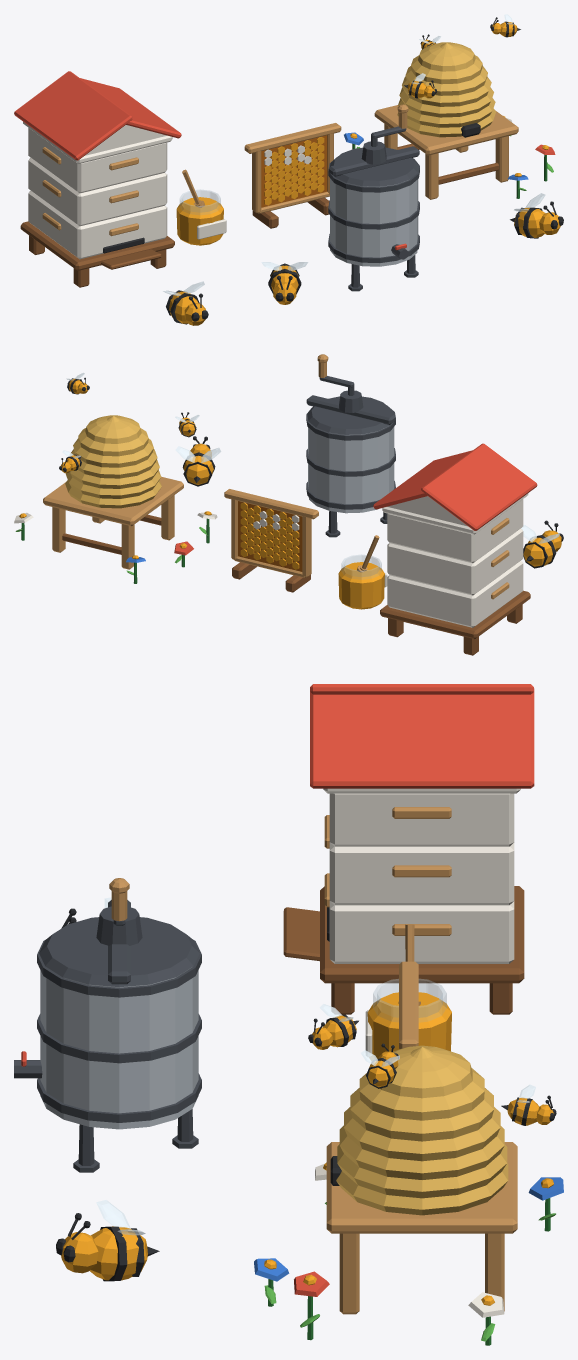
File: low-poly-beehive-set.glb
3 renders of one model, top to bottom at view 1: azimuth 30°, elevation 25°; view 2: azimuth 150°, elevation 25°; view 3: azimuth 270°, elevation 25°, orthographic. The views are drawn at different scales.
Visible parts, largest first — view 1: Skep_Dome, Extractor_Barrel, BoxHive_RoofL, BoxHive_Box2, BoxHive_Box1, BoxHive_Box3, Frame_Cells, Skep_StandTop, Extractor_Lid, BoxHive_Base, HoneyJar_Honey, BoxHive_RoofR (+19 smaller); view 2: Skep_Dome, Extractor_Barrel, BoxHive_RoofL, BoxHive_Box1, BoxHive_Box2, BoxHive_Box3, Frame_Cells, Skep_StandTop, HoneyJar_Honey, BoxHive_Base, Extractor_Lid, BoxHive_RoofR (+20 smaller); view 3: Skep_Dome, BoxHive_RoofR, Extractor_Barrel, BoxHive_Box2, BoxHive_Box1, BoxHive_Box3, Extractor_Lid, Skep_StandTop, BoxHive_Base, HoneyJar_Honey, BoxHive_RoofL, Extractor_Band2 (+12 smaller).
Part boxes in pixels (x1,y1,x2,y2): Skep_Dome: (397, 42, 495, 137); Extractor_Barrel: (330, 178, 418, 266); BoxHive_RoofL: (14, 71, 132, 160); BoxHive_Box2: (28, 157, 167, 226); BoxHive_Box1: (28, 190, 167, 259); BoxHive_Box3: (28, 128, 167, 193); Frame_Cells: (264, 137, 324, 205); Skep_StandTop: (374, 105, 518, 155); Extractor_Lid: (330, 147, 418, 186); BoxHive_Base: (20, 221, 174, 270); HoneyJar_Honey: (176, 197, 223, 245); BoxHive_RoofR: (80, 78, 181, 138); Skep_Dome: (65, 415, 161, 508); Extractor_Barrel: (308, 426, 394, 513); BoxHive_RoofL: (421, 443, 537, 530); BoxHive_Box1: (387, 560, 523, 627); BoxHive_Box2: (387, 528, 523, 595); BoxHive_Box3: (387, 499, 523, 563); Frame_Cells: (240, 502, 299, 569); Skep_StandTop: (43, 476, 183, 526); HoneyJar_Honey: (338, 562, 384, 609); BoxHive_Base: (380, 590, 530, 639); Extractor_Lid: (307, 396, 394, 434); BoxHive_RoofR: (373, 450, 472, 509); Skep_Dome: (336, 1045, 508, 1215); BoxHive_RoofR: (310, 688, 534, 788); Extractor_Barrel: (40, 967, 198, 1129); BoxHive_Box2: (329, 842, 514, 905); BoxHive_Box1: (329, 901, 514, 963); BoxHive_Box3: (329, 793, 514, 846); Extractor_Lid: (39, 917, 199, 987); Skep_StandTop: (326, 1142, 517, 1233); BoxHive_Base: (320, 886, 524, 983); HoneyJar_Honey: (367, 992, 451, 1060); BoxHive_RoofL: (310, 684, 533, 694); Extractor_Band2: (37, 940, 201, 997).
Bounding box in the file's own units: 15.11 × 4.93 × 8.34.
